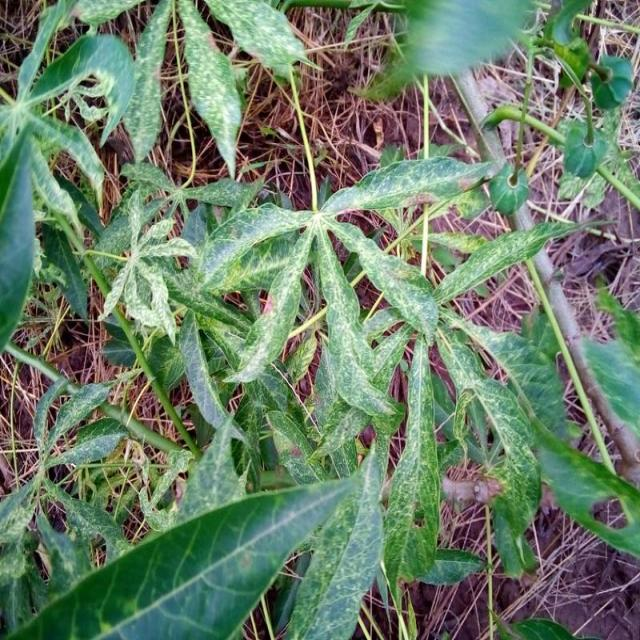cassava leaf: (2, 1, 640, 638), (8, 471, 358, 638)
